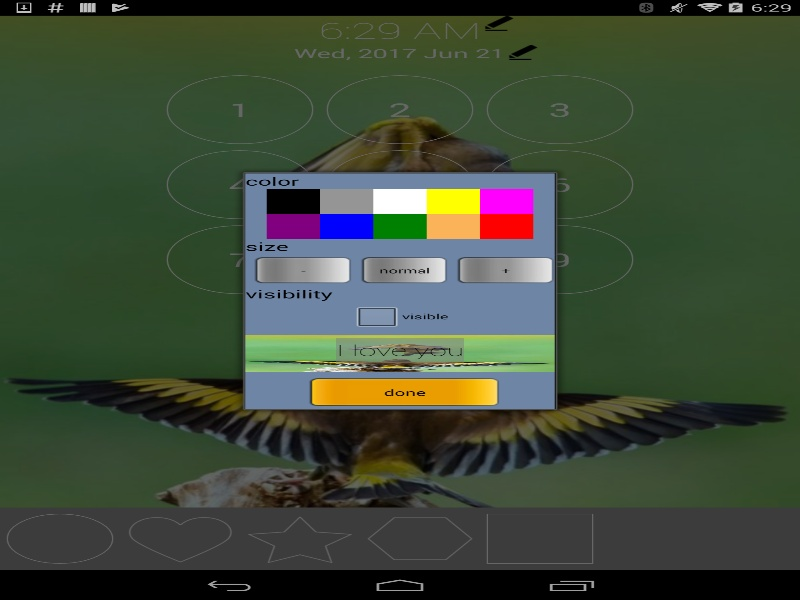Button: (300, 375, 500, 409), (245, 254, 352, 286), (448, 254, 554, 286), (352, 254, 448, 286), (266, 188, 320, 213), (426, 188, 480, 213), (266, 213, 320, 238), (426, 213, 480, 238), (320, 188, 373, 213), (373, 188, 426, 213), (480, 188, 533, 213), (320, 213, 373, 238), (373, 213, 426, 238), (480, 213, 533, 238)
Input: (336, 337, 463, 362)
